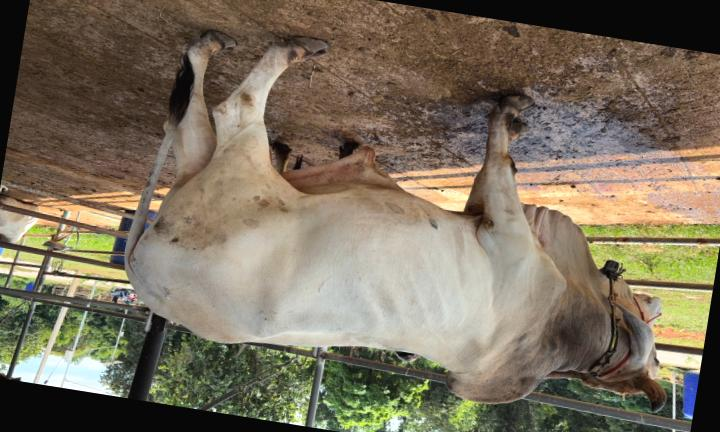Brahman: (125, 31, 665, 411)
